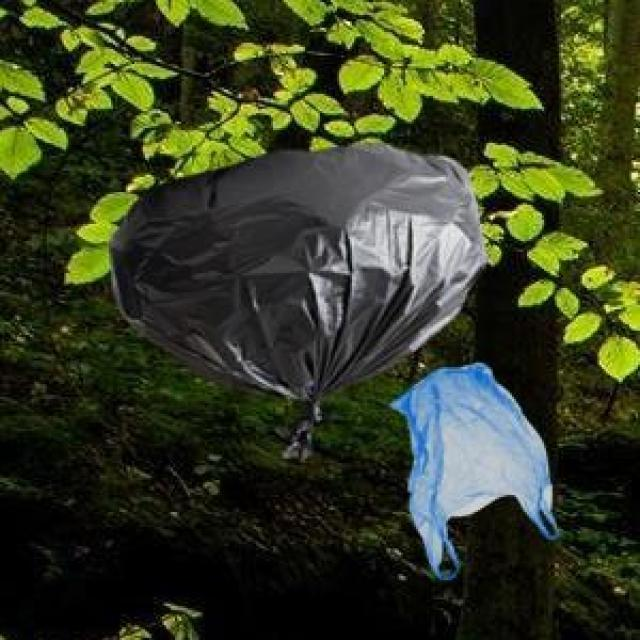miscellaneous trash: (105, 141, 482, 457)
